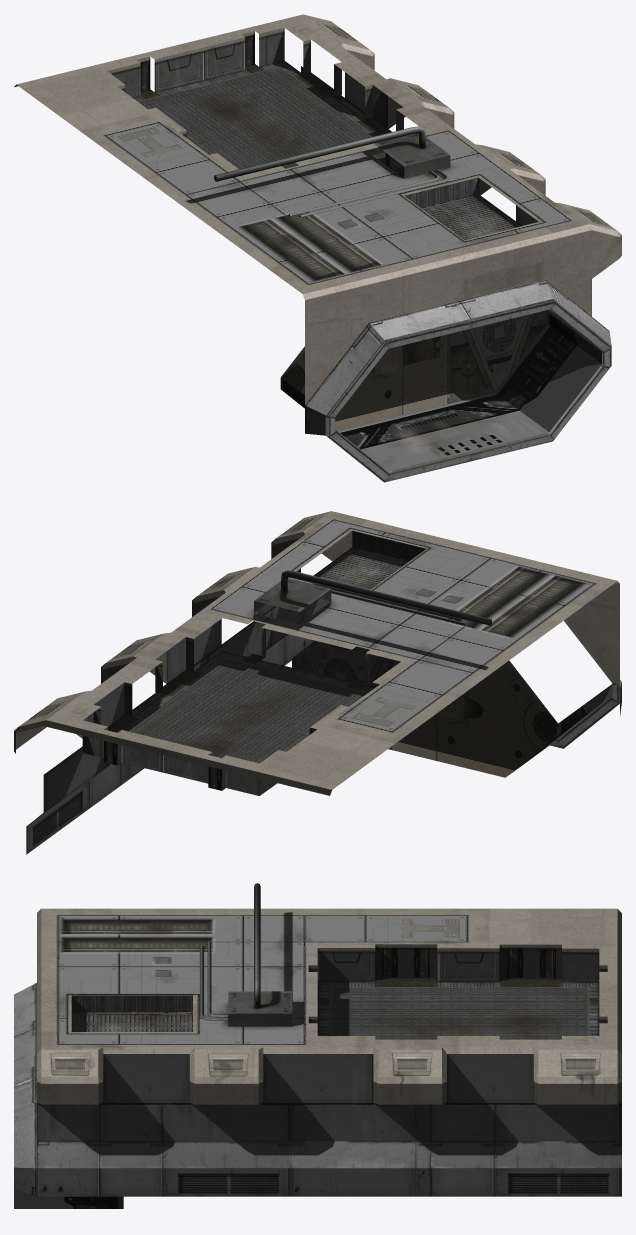
The model's file is ML2_Station_L.FBX.
3 renders of one model, top to bottom at view 1: azimuth 30°, elevation 25°; view 2: azimuth 150°, elevation 25°; view 3: azimuth 270°, elevation 25°, orthographic.
Parts seen in each view (by area): view 1: ML2_Station_L; view 2: ML2_Station_L; view 3: ML2_Station_L.
Boxes of the visible parts, <box> form: ML2_Station_L: <box>14,14,621,482</box>; ML2_Station_L: <box>14,511,621,854</box>; ML2_Station_L: <box>14,883,621,1208</box>.
Size of the model in its own units: 10.38 by 7.16 by 17.03.
Materials: 1 (1 with a texture image).
